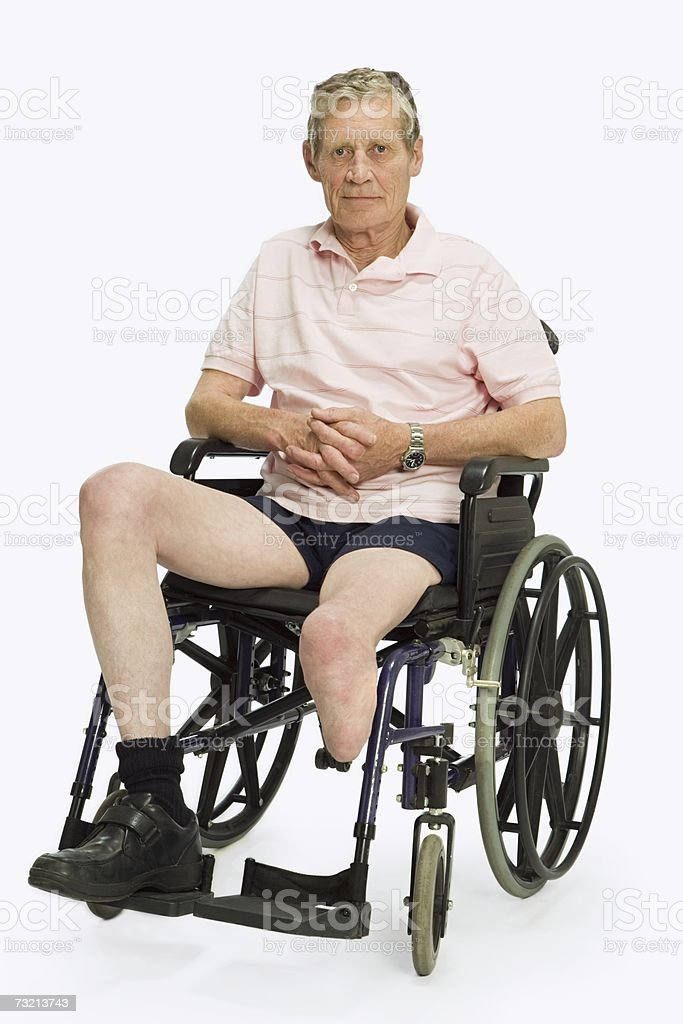wheelchair: (28, 62, 615, 984)
